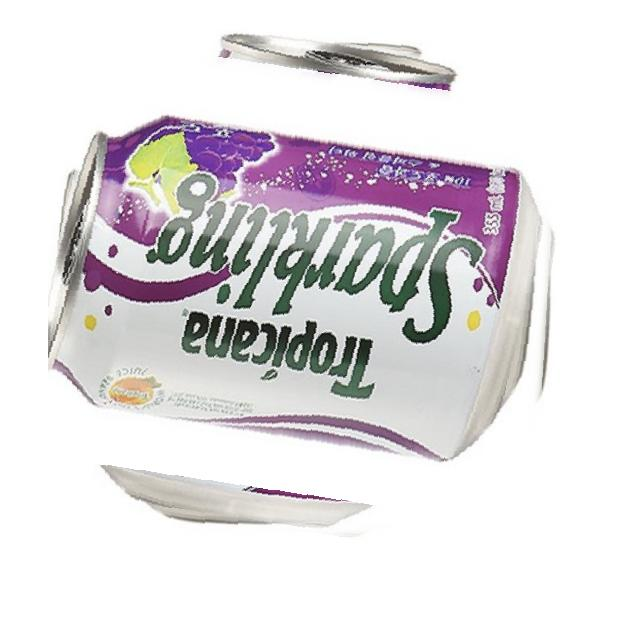recyclable: (48, 29, 564, 546)
